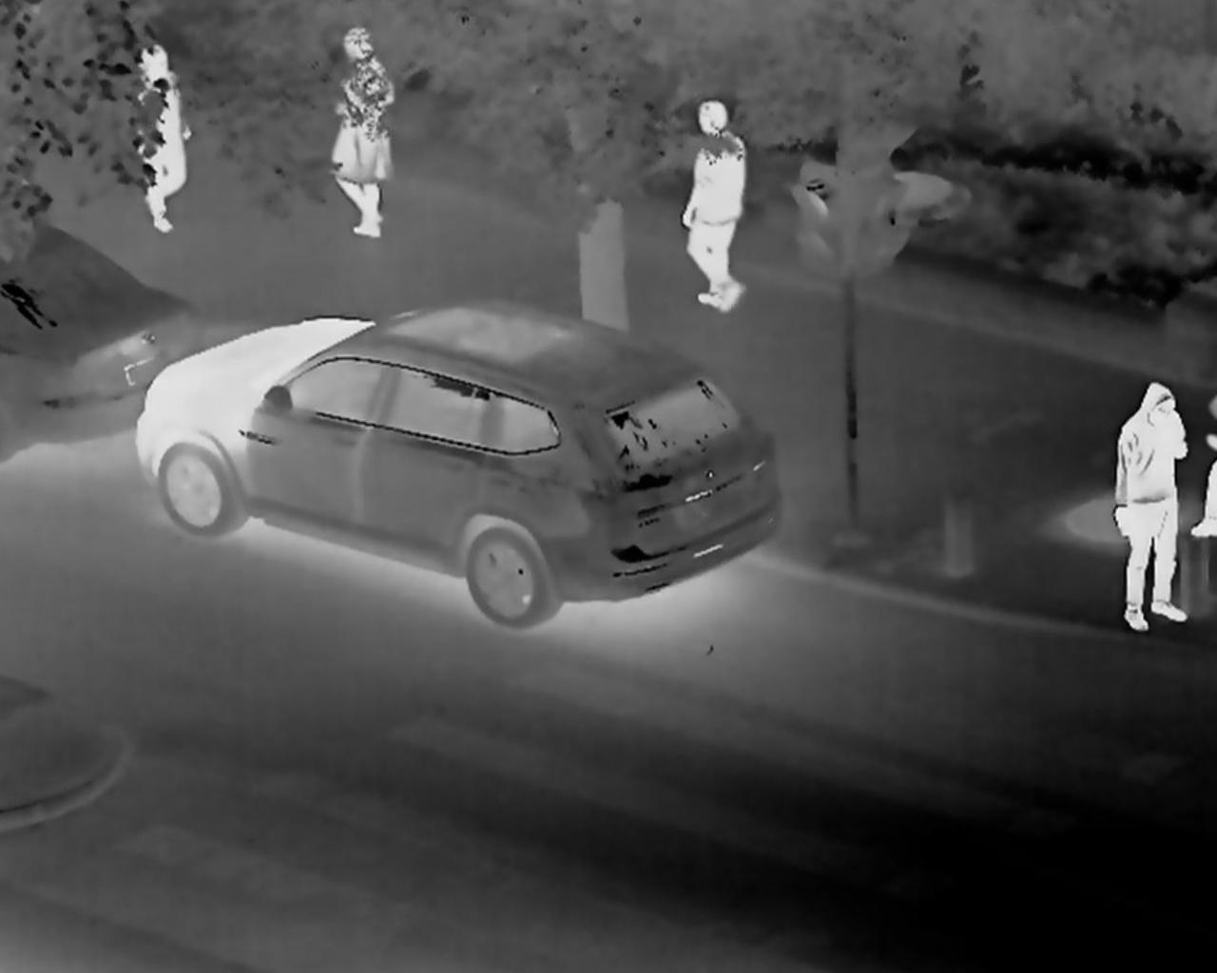person: (1109, 373, 1194, 636), (320, 23, 394, 243), (680, 94, 752, 315), (125, 37, 194, 238)
